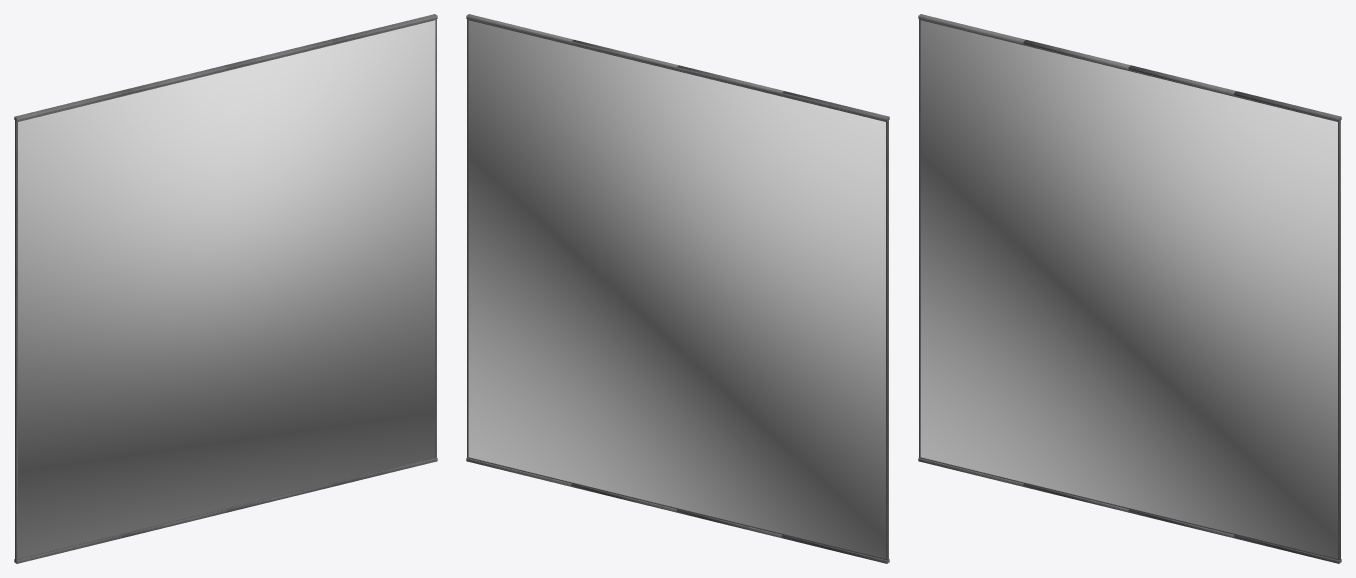
File: Glass_Panel.glb
3 views of the same model, side by side, from view 1: azimuth 30°, elevation 25°; view 2: azimuth 150°, elevation 25°; view 3: azimuth 330°, elevation 25° (orthographic).
Parts seen in each view (by area): view 1: Glass wall panel interior.001; view 2: Glass wall panel interior.001; view 3: Glass wall panel interior.001.
Part boxes in pixels (x1,y1,x2,y2): Glass wall panel interior.001: (14,14,437,563); Glass wall panel interior.001: (466,14,889,563); Glass wall panel interior.001: (918,14,1341,563).
Bounding box in the file's own units: 2.49 × 2.52 × 0.0266.
Materials: 3 (1 with a texture image).
